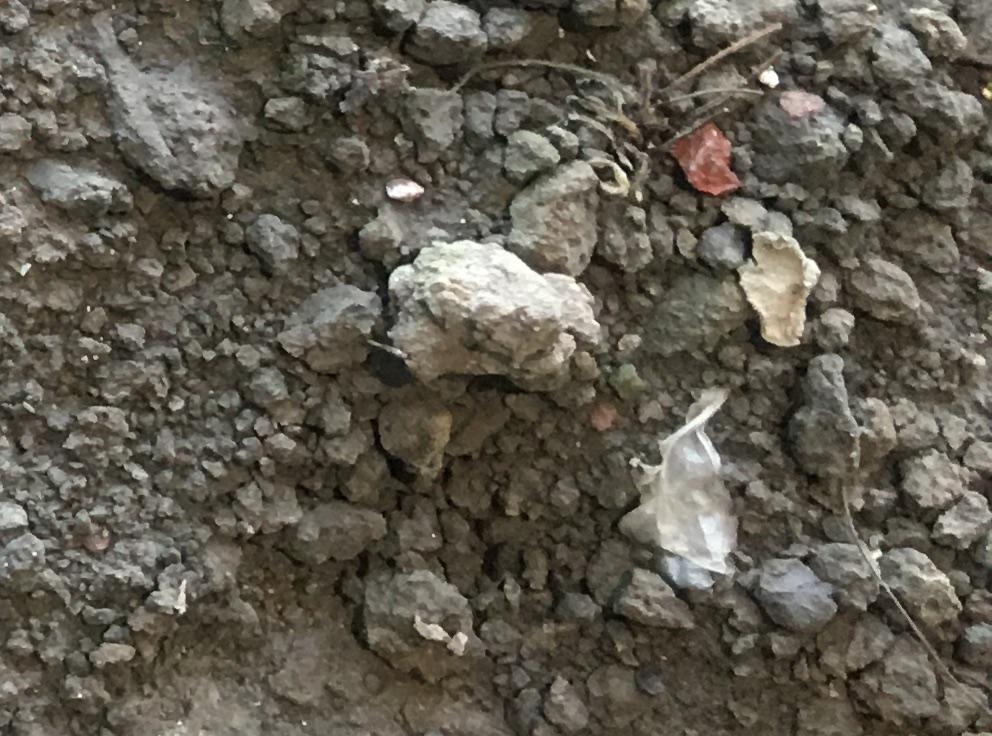block: (383, 236, 599, 400)
